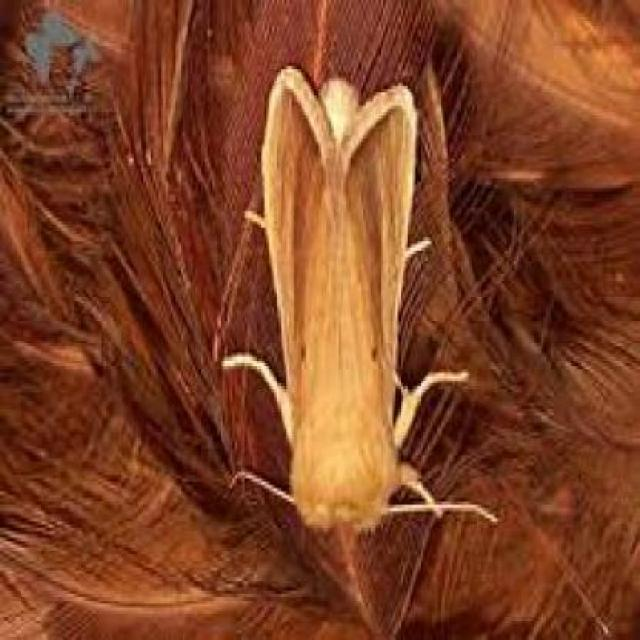stem-borer: (243, 61, 431, 542)
